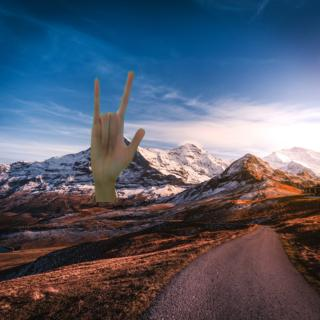ILY: (86, 68, 148, 185)
